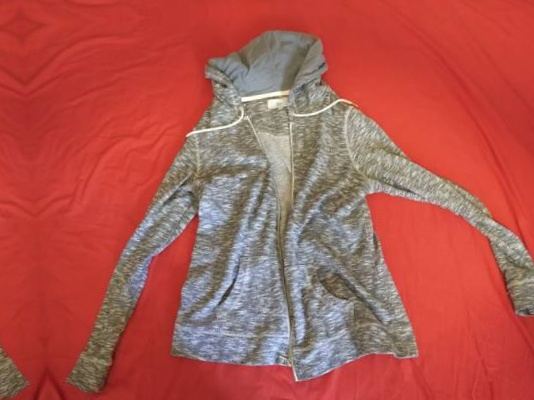Hoodie: (34, 4, 534, 400), (0, 41, 37, 400), (4, 0, 505, 12), (0, 0, 6, 49)
